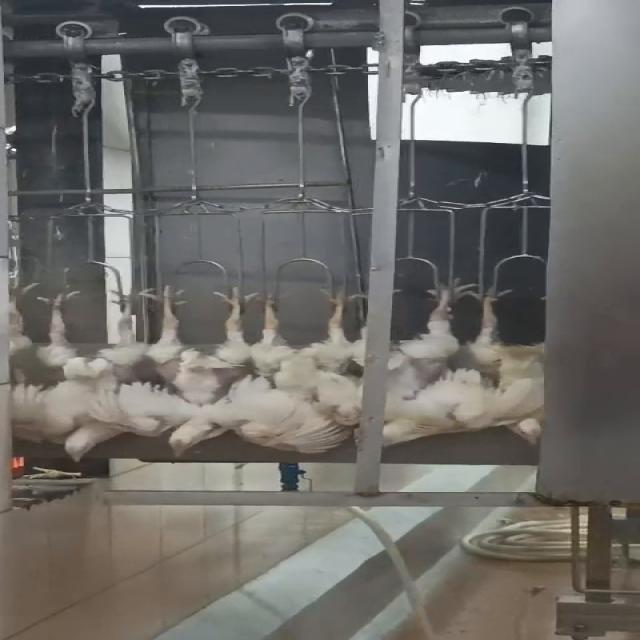chicken: (133, 280, 267, 460), (11, 284, 144, 464), (236, 280, 352, 457), (458, 280, 562, 450), (389, 288, 475, 448)
